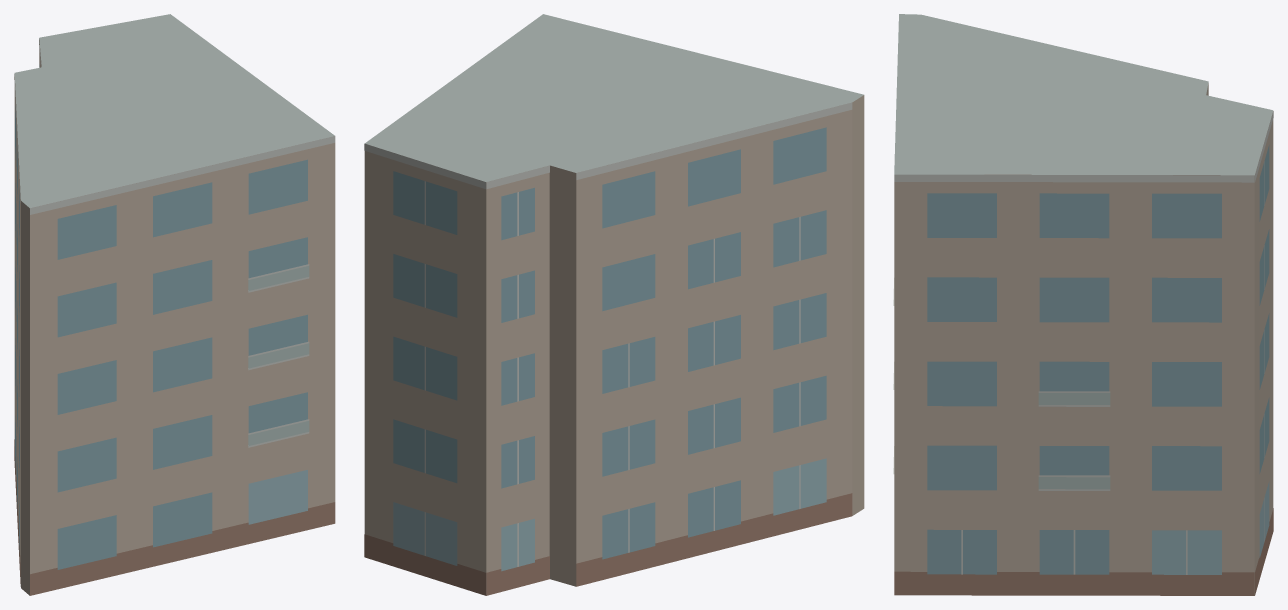
File: survey-upis-32777548.glb
3 views of the same model, side by side, from view 1: azimuth 30°, elevation 25°; view 2: azimuth 150°, elevation 25°; view 3: azimuth 270°, elevation 25° (orthographic). The views are drawn at different scales.
Visible parts, largest first — view 1: survey-upis-32777548.tmp; view 2: survey-upis-32777548.tmp; view 3: survey-upis-32777548.tmp.
Part boxes in pixels (x1,y1,x2,y2): survey-upis-32777548.tmp: (14,14,335,595); survey-upis-32777548.tmp: (364,14,864,595); survey-upis-32777548.tmp: (893,14,1273,595).
Size of the model in its own units: 11.53 by 14 by 11.47.
